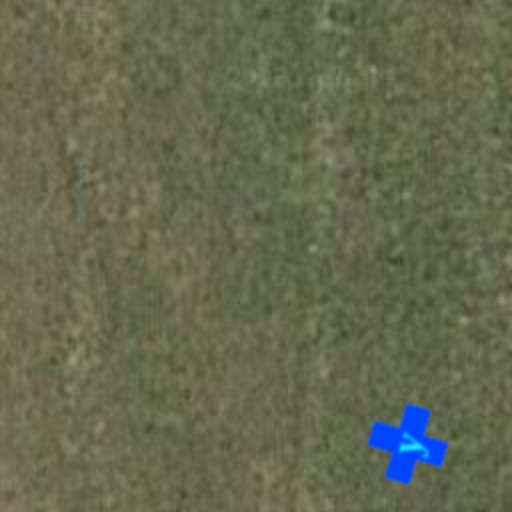cross: (358, 394, 458, 494)
